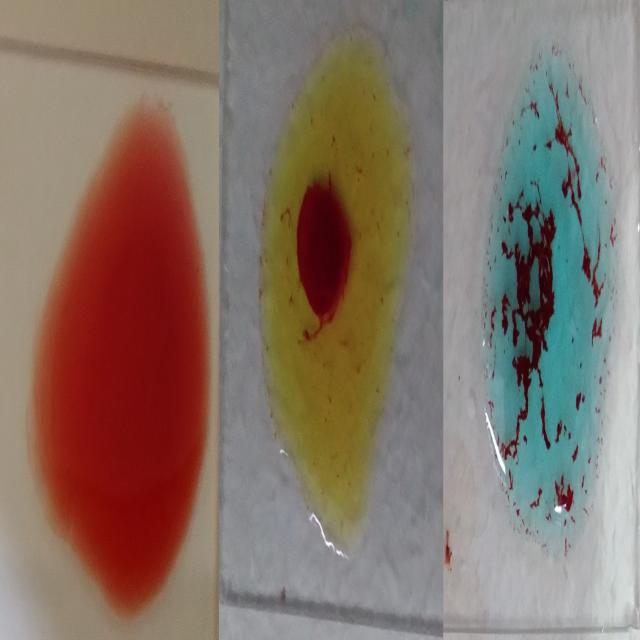A: (486, 49, 616, 556)
B: (256, 22, 416, 561)
